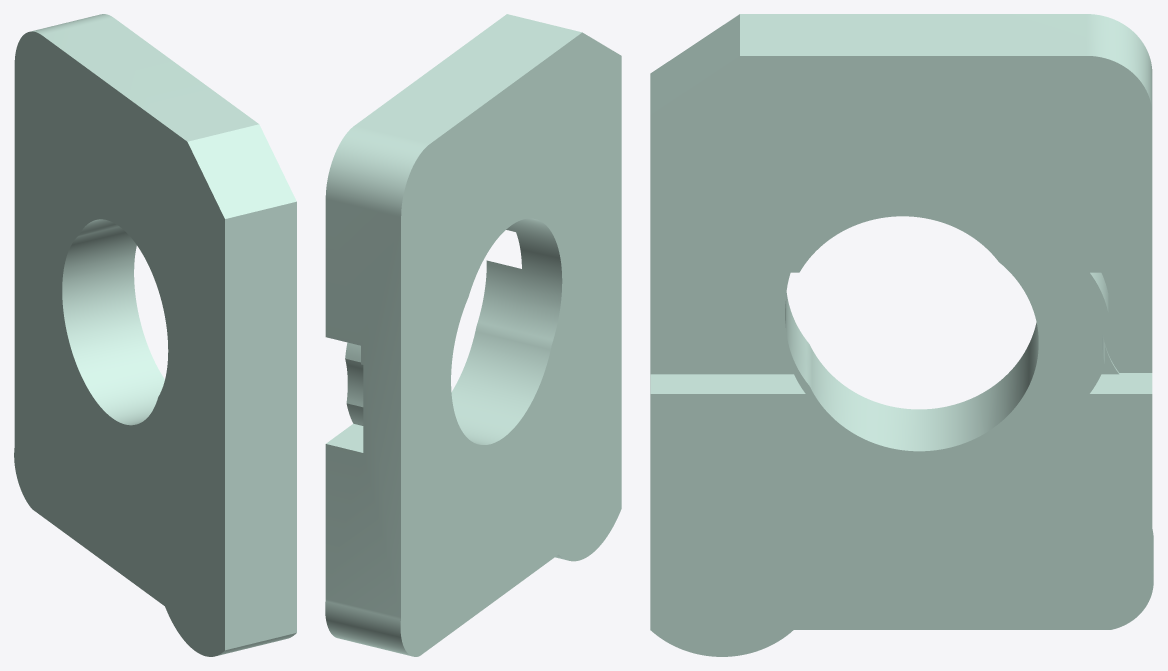
3 views of the same model, side by side, from view 1: azimuth 30°, elevation 25°; view 2: azimuth 150°, elevation 25°; view 3: azimuth 270°, elevation 25° (orthographic). The views are drawn at different scales.
Parts seen in each view (by area): view 1: Renderer Node; view 2: Renderer Node; view 3: Renderer Node.
Boxes of the visible parts, x1,y1,x2,y2 form: Renderer Node: (14, 14, 296, 656); Renderer Node: (325, 14, 621, 656); Renderer Node: (650, 14, 1153, 656).
Bounding box in the file's own units: 0.2344 × 1.57 × 1.19.
